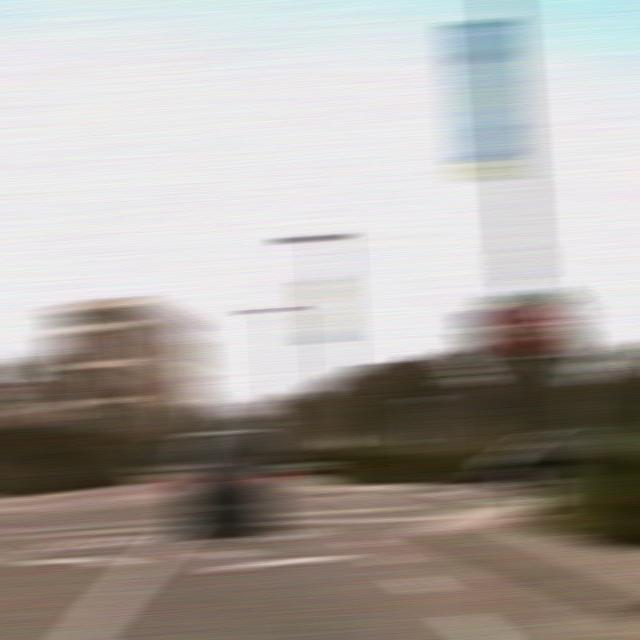stop: (496, 305, 557, 358)
